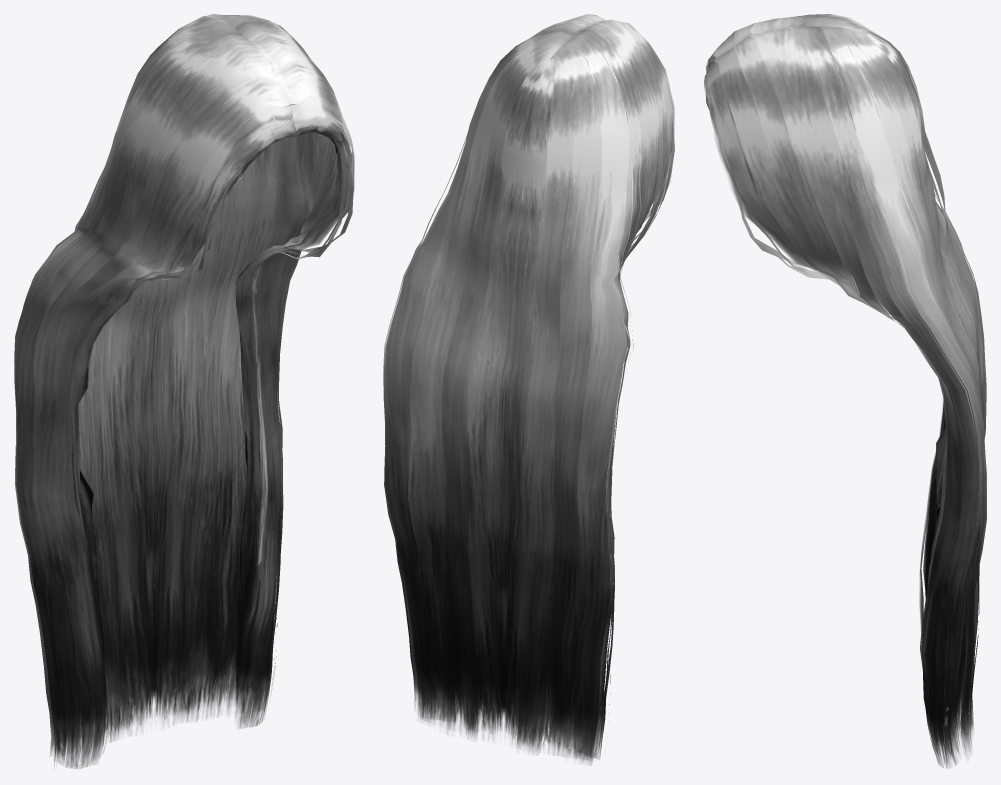
Rendered from hair_long01.gltf.
3 renders of one model, left to right at view 1: azimuth 30°, elevation 25°; view 2: azimuth 150°, elevation 25°; view 3: azimuth 270°, elevation 25°, orthographic. The views are drawn at different scales.
Parts seen in each view (by area): view 1: hair_long01; view 2: hair_long01; view 3: hair_long01.
Boxes of the visible parts, x1,y1,x2,y2 form: hair_long01: [14, 14, 354, 768]; hair_long01: [383, 14, 674, 765]; hair_long01: [704, 14, 986, 767].
Bounding box in the file's own units: 0.2805 × 0.7594 × 0.2754.
Materials: 1 (1 with a texture image).
